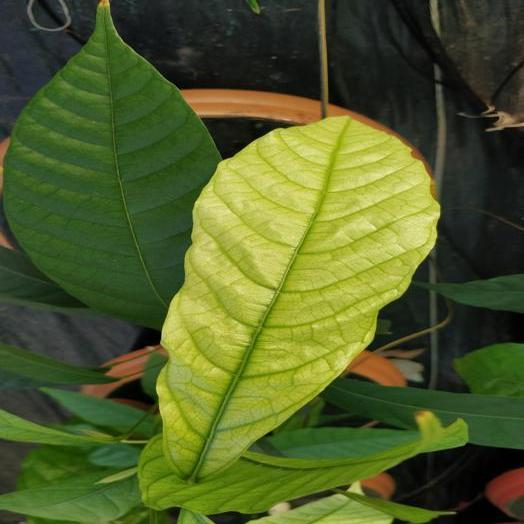Healthy Leaf: (5, 0, 220, 327), (139, 412, 467, 514), (322, 379, 523, 448)
Iron: (158, 117, 438, 482)
